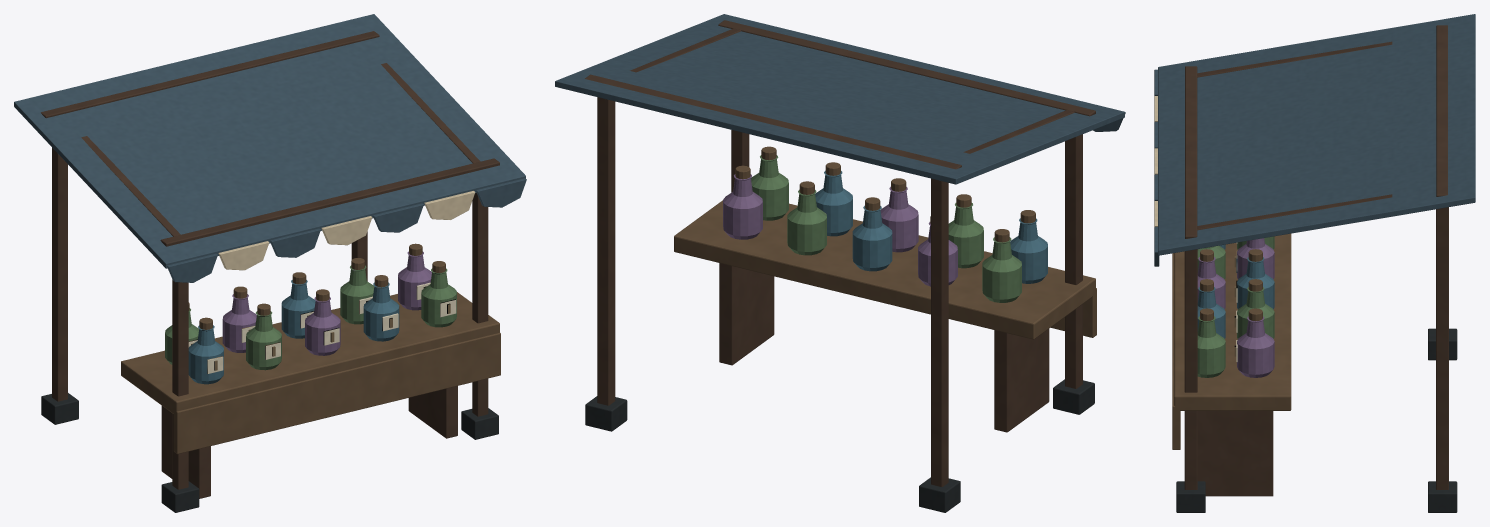
The model's file is Potion_Stall.fbx.
The picture shows the model from 3 angles, left to right: view 1: azimuth 30°, elevation 25°; view 2: azimuth 150°, elevation 25°; view 3: azimuth 270°, elevation 25°; orthographic projection. The views are drawn at different scales.
Parts seen in each view (by area): view 1: Potion_Stall.001; view 2: Potion_Stall.001; view 3: Potion_Stall.001.
Boxes of the visible parts, x1,y1,x2,y2 form: Potion_Stall.001: (14, 14, 526, 512); Potion_Stall.001: (555, 14, 1125, 512); Potion_Stall.001: (1154, 14, 1475, 512).
Size of the model in its own units: 3.56 by 2.94 by 2.63.
